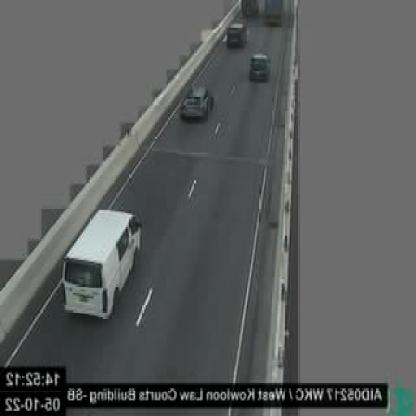Car: (65, 206, 144, 319), (177, 85, 214, 121), (250, 54, 270, 83), (228, 22, 246, 47)
